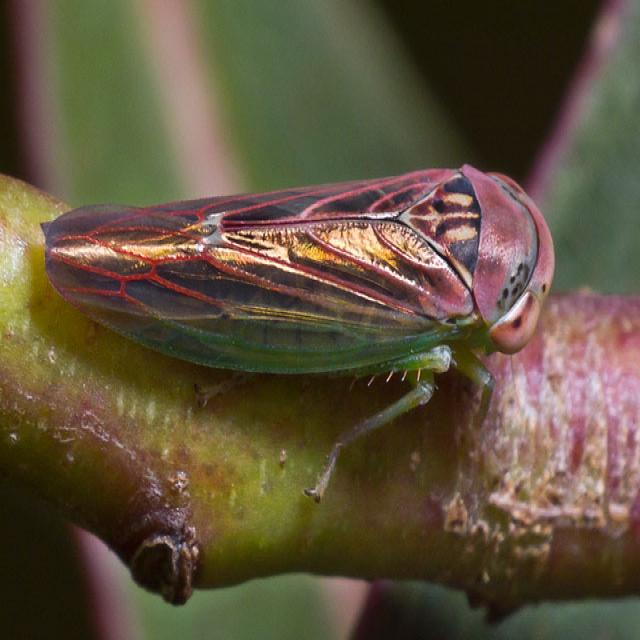Yechan: (27, 123, 568, 423)
